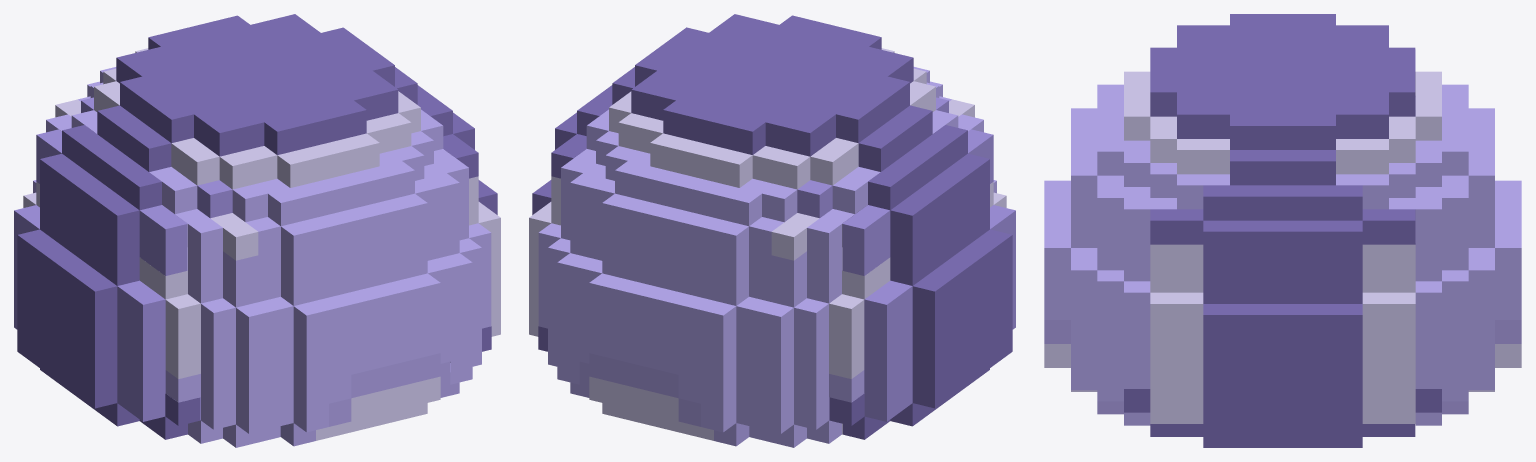
File: 20_form_indigo.glb
3 views of the same model, side by side, from view 1: azimuth 30°, elevation 25°; view 2: azimuth 150°, elevation 25°; view 3: azimuth 270°, elevation 25° (orthographic). The views are drawn at different scales.
Bounding box in the file's own units: 18 × 12 × 18.
